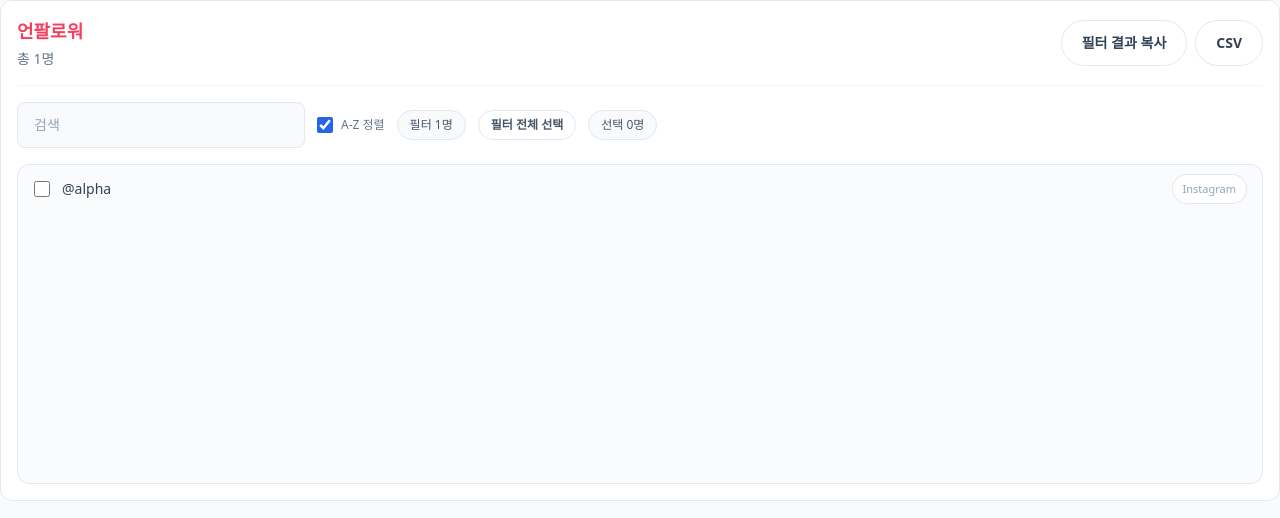
ListView › shows a copy failure state when clipboard access fails
The width and height of the screenshot is (1280, 518).
What coordinates should you click on to do the following:
click the button "필터 결과 복사"
I would click on:
 (1124, 43)
Its box is top-left (1061, 20), bottom-right (1187, 66).
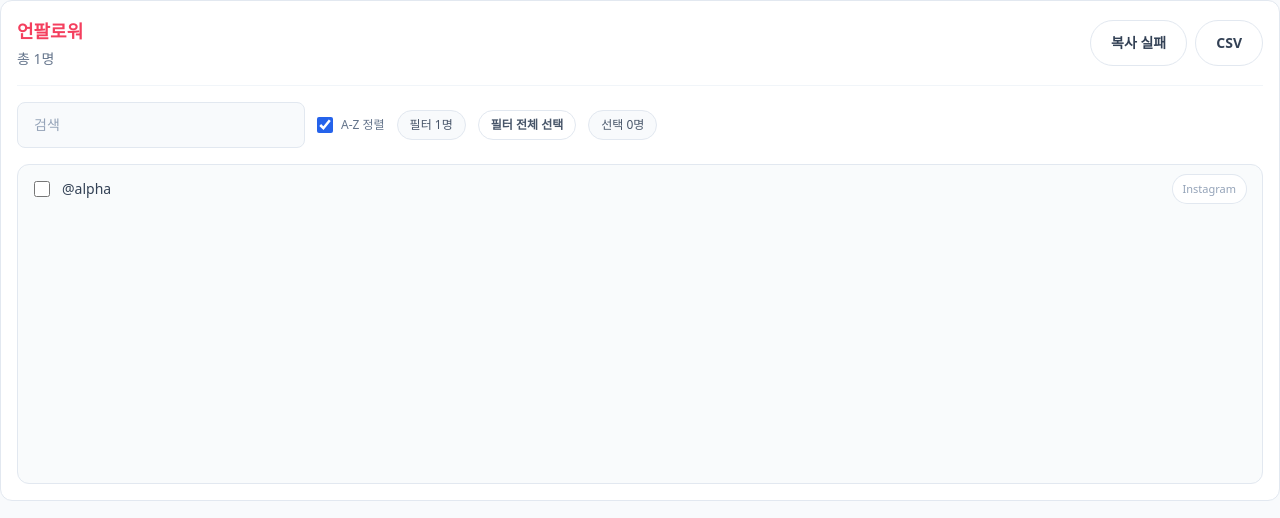
Expected: the text "복사 실패" is shown, top-left (1090, 20), bottom-right (1187, 66)
